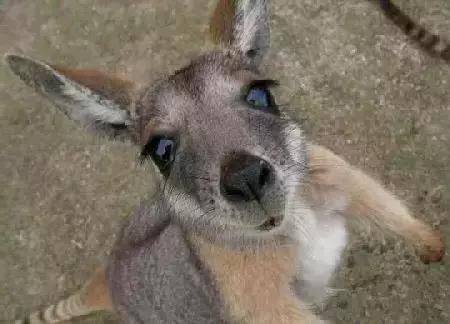kangaroo: (1, 5, 446, 324)
